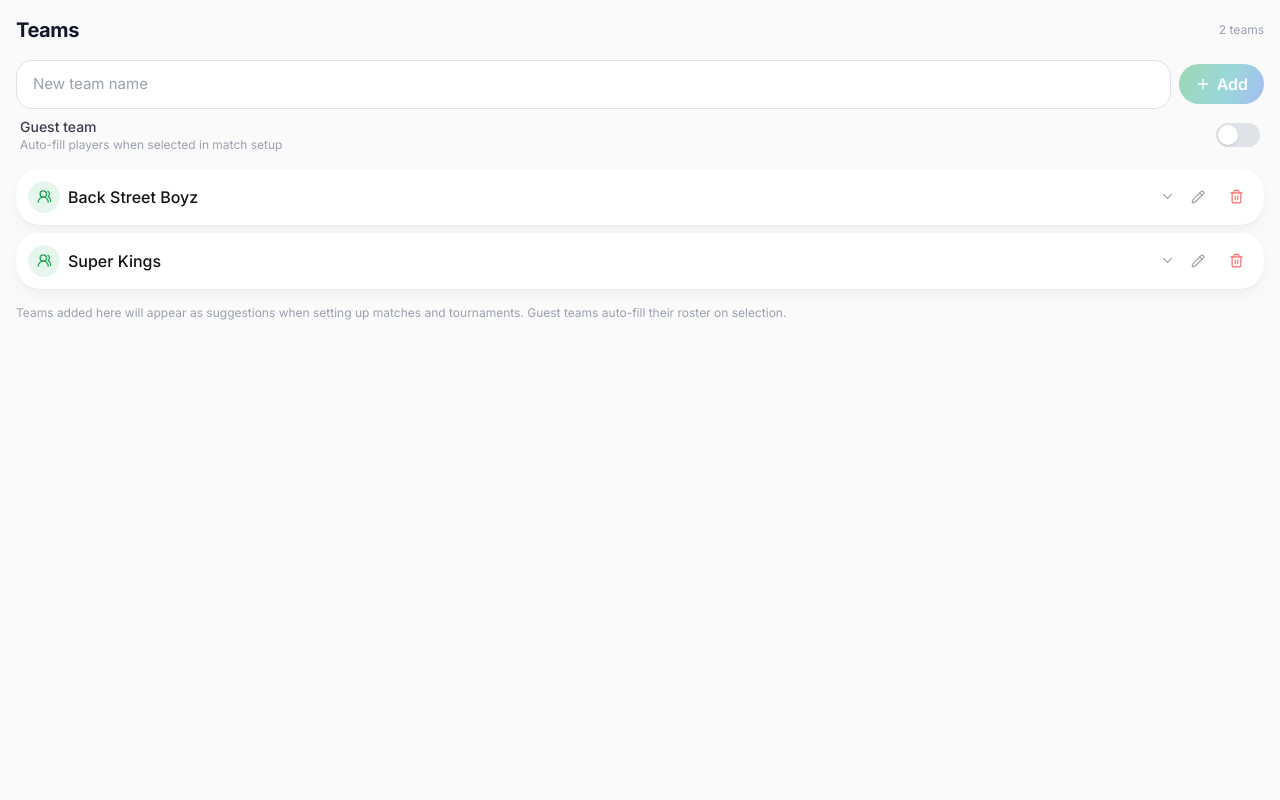
it: Teams — roster player filtering › unassigned player is enabled in add panel
expect the text "Back Street Boyz" is shown: met, box [68,184,198,208]
Click the button "Super Kings". click: (115, 260)
box: [68,248,1175,272]
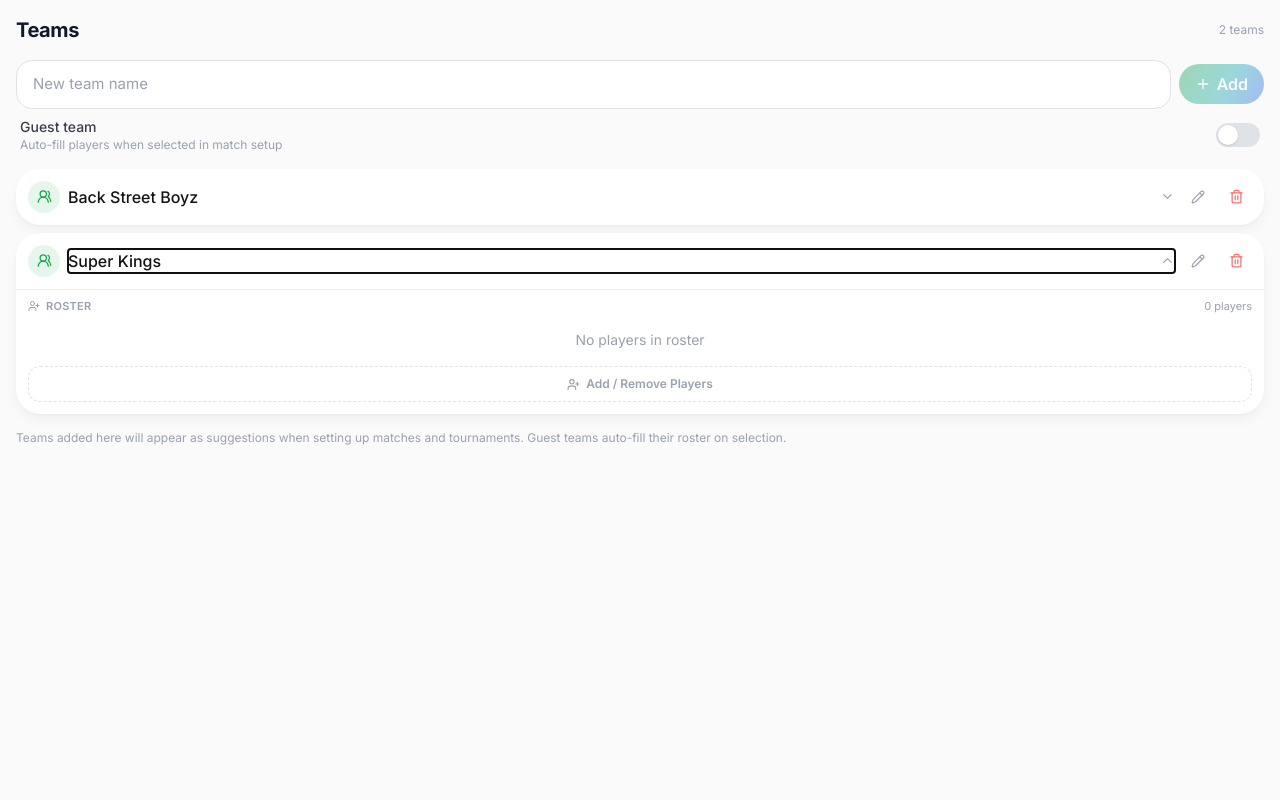
expect the text "Roster" is shown: met, box [28,298,92,314]
Click the button "Add / Remove Players". click: (640, 384)
box: [28,366,1252,402]
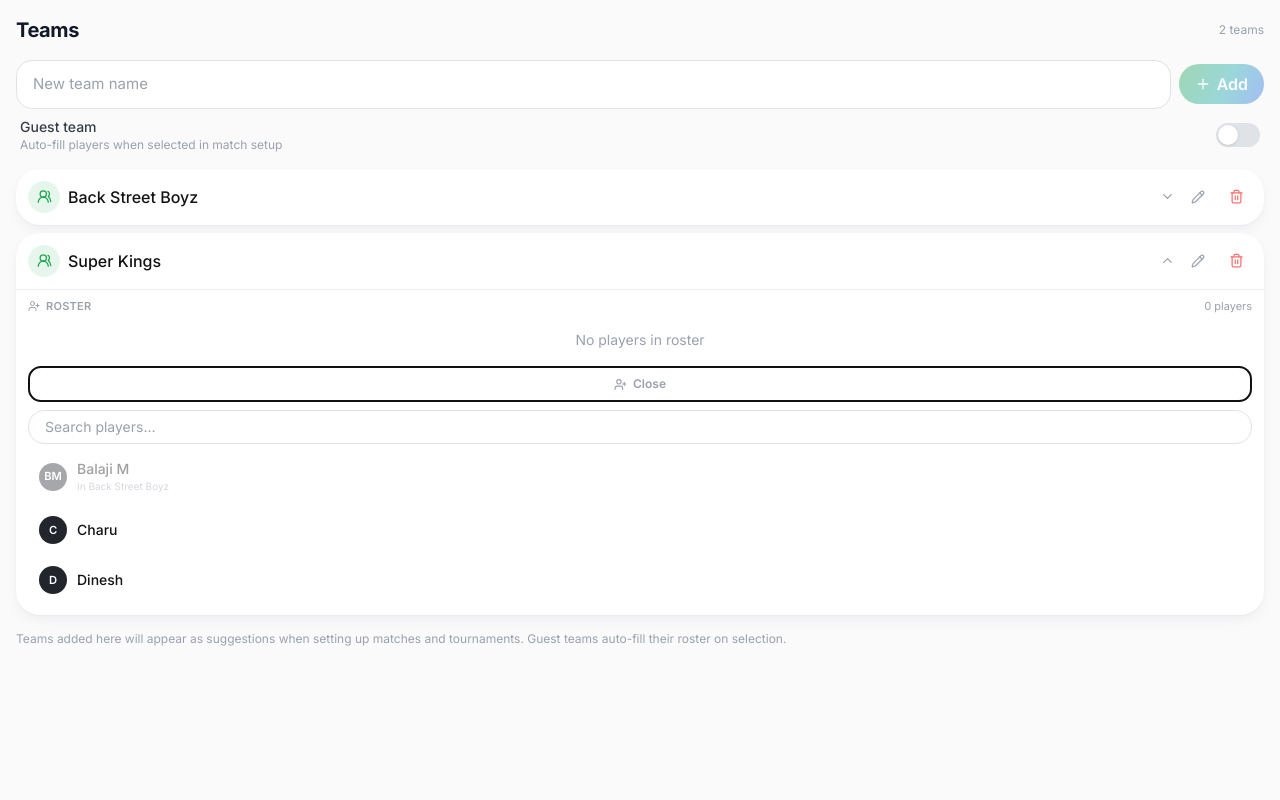
expect the field with placeholder "Search players…" is shown: met, box [28,410,1252,444]
expect the button "D Dinesh" is enabled: met, box [28,557,1252,603]
